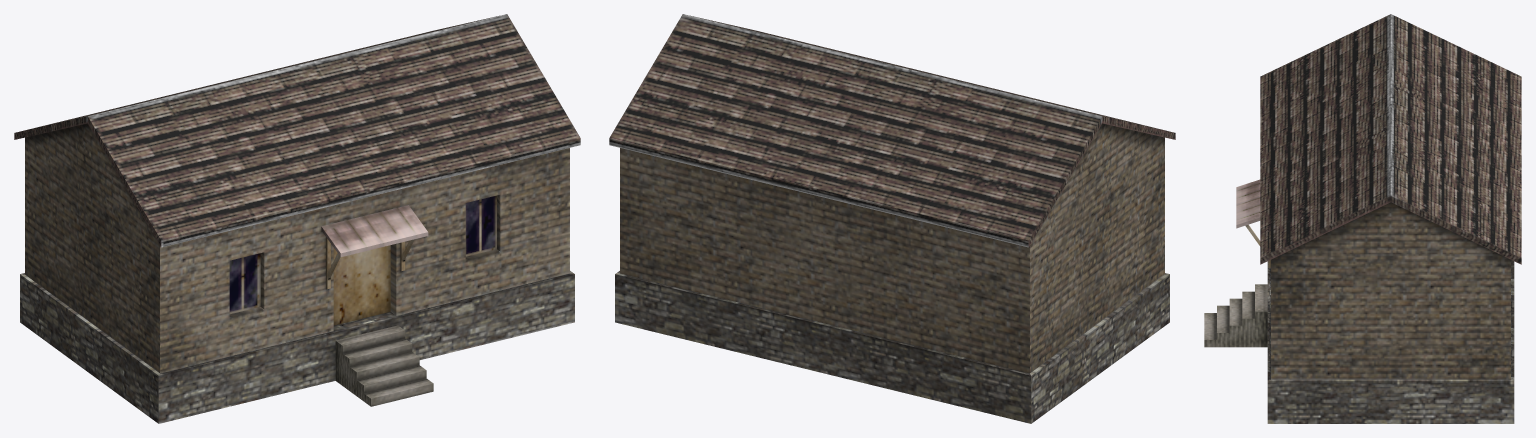
Rendered from home.fbx.
3 renders of one model, left to right at view 1: azimuth 30°, elevation 25°; view 2: azimuth 150°, elevation 25°; view 3: azimuth 270°, elevation 25°, orthographic. The views are drawn at different scales.
Visible parts, largest first — view 1: home; view 2: home; view 3: home.
Part boxes in pixels (x1,y1,x2,y2): home: (14,14,580,423); home: (609,14,1175,423); home: (1204,14,1521,423).
Bounding box in the file's own units: 22.12 × 12.97 × 16.3.
